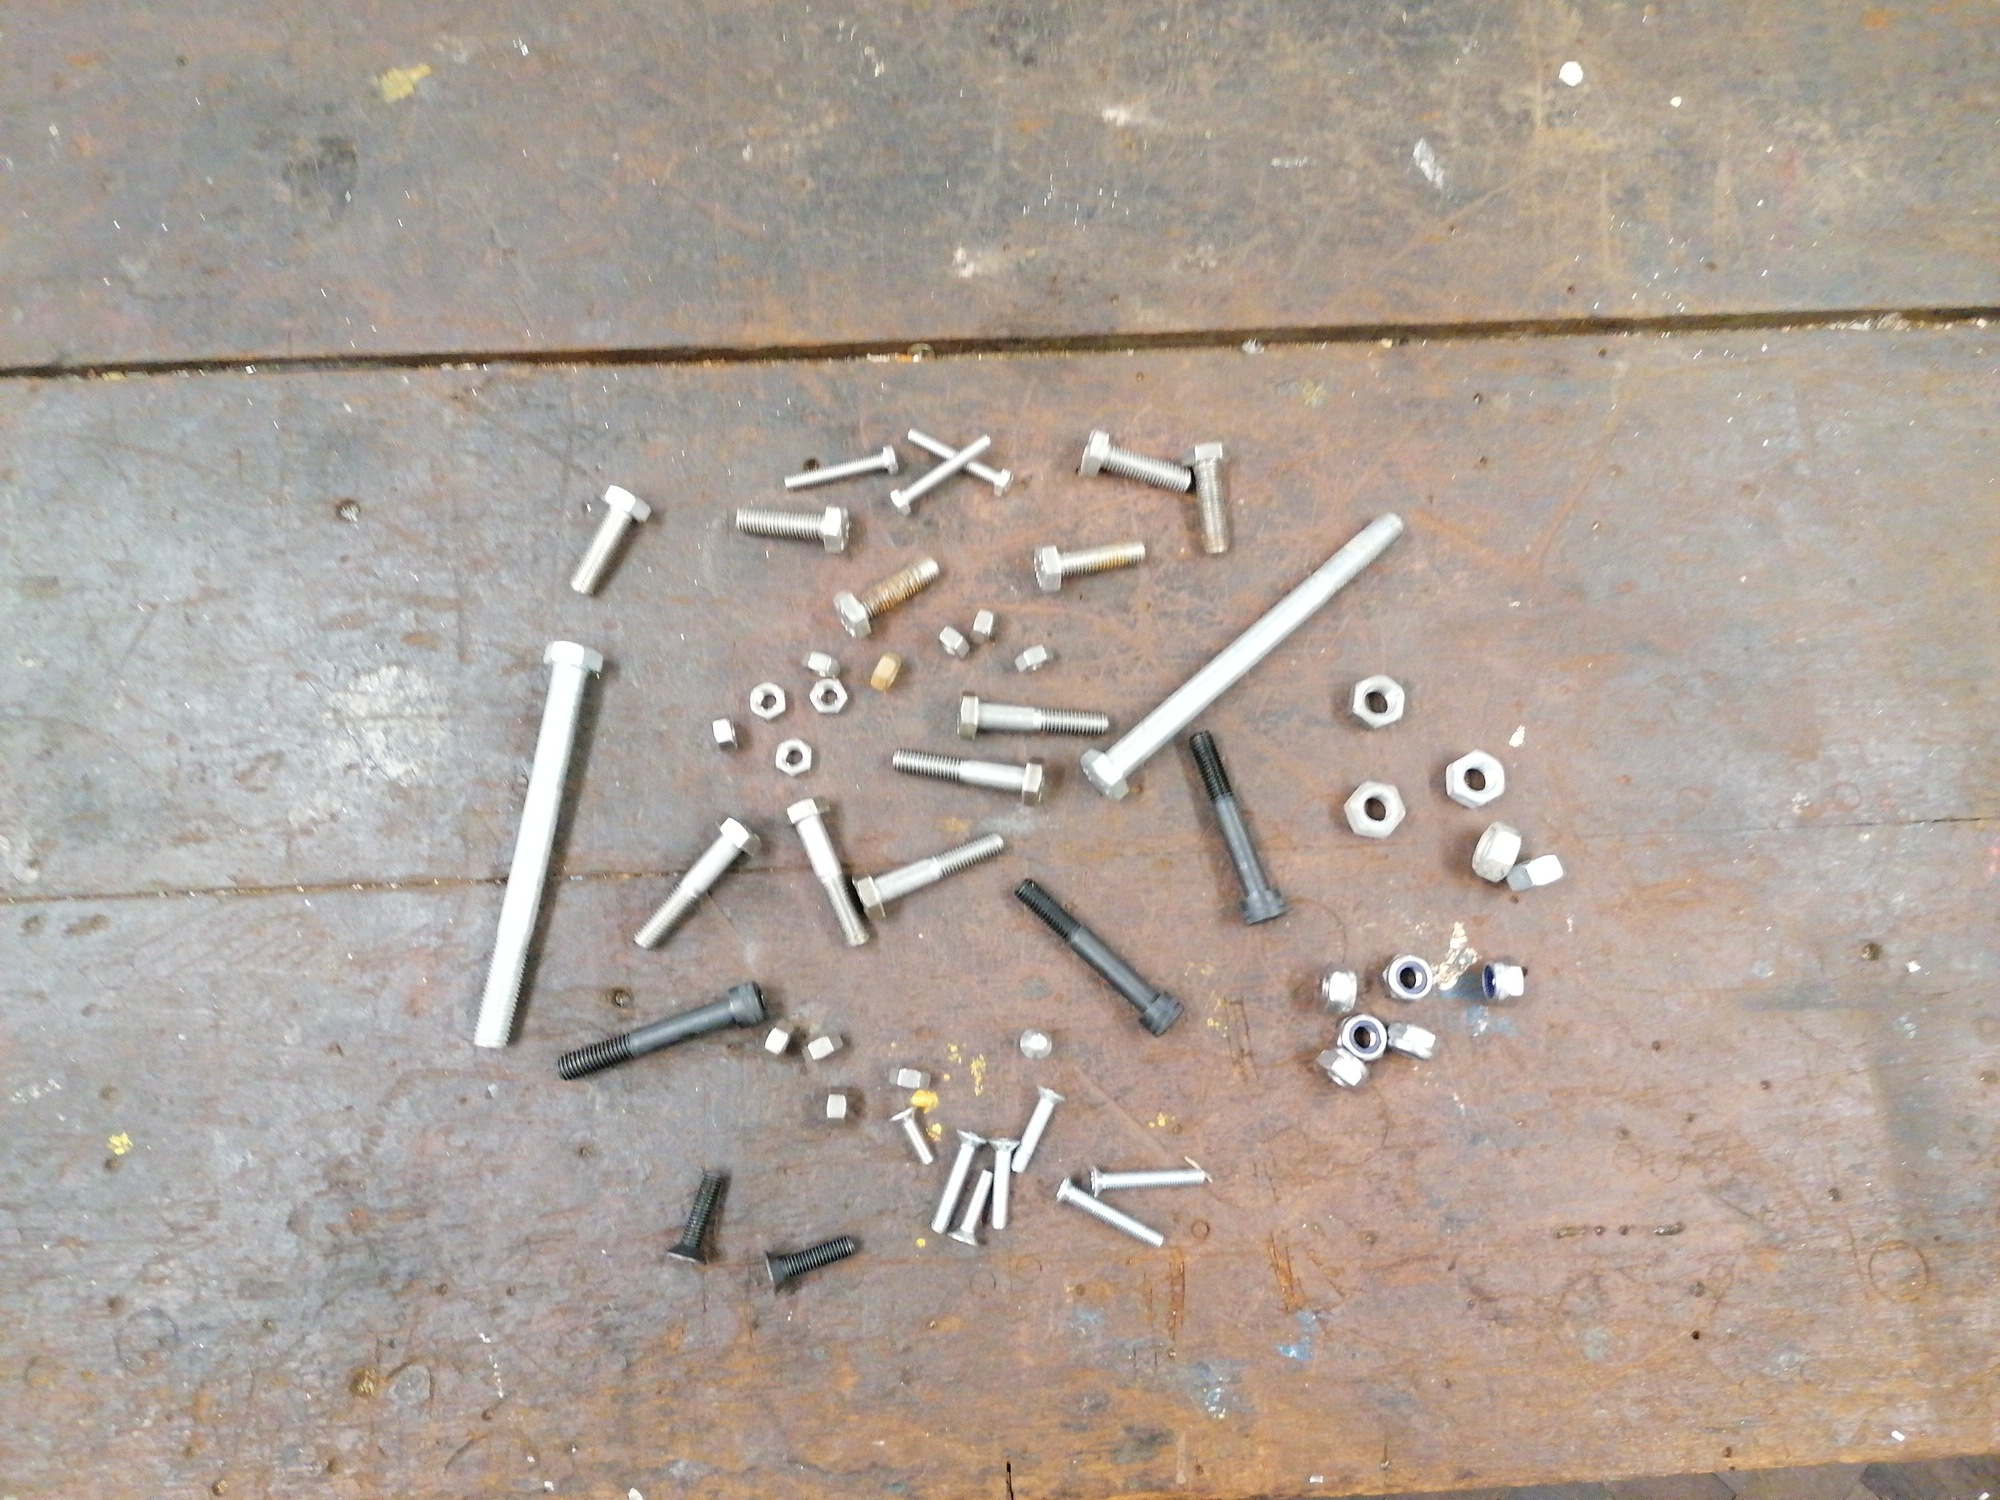bolt: (1079, 511, 1405, 800), (471, 640, 605, 1049), (1014, 878, 1184, 1037), (554, 980, 770, 1081), (1187, 730, 1288, 926), (850, 832, 1005, 920), (784, 796, 869, 947), (567, 482, 652, 596), (890, 747, 1046, 808), (831, 555, 942, 638), (888, 433, 992, 515), (1055, 1175, 1164, 1249), (956, 689, 1109, 741), (1079, 427, 1192, 495), (906, 427, 1014, 496), (1031, 539, 1146, 592), (929, 1128, 987, 1234), (1180, 441, 1231, 556), (735, 503, 850, 555), (762, 1234, 857, 1297), (665, 1171, 724, 1265), (783, 444, 901, 488), (1009, 1086, 1066, 1172), (1088, 1164, 1205, 1197), (946, 1168, 994, 1246), (986, 1138, 1020, 1231), (888, 1106, 932, 1164), (1019, 1024, 1055, 1059)
nut: (1342, 780, 1406, 840), (1446, 748, 1506, 808), (1346, 673, 1405, 730), (1469, 821, 1521, 882), (1378, 952, 1435, 1004), (1334, 1013, 1387, 1062), (1313, 1046, 1372, 1090), (1506, 852, 1567, 892), (1387, 1021, 1439, 1060), (1480, 958, 1524, 1004), (1320, 964, 1357, 1015), (773, 736, 814, 777), (748, 681, 787, 722), (808, 678, 850, 715), (869, 651, 902, 692), (1014, 643, 1057, 674), (798, 649, 843, 678), (764, 1016, 795, 1056), (935, 626, 970, 660), (824, 1086, 850, 1130), (806, 1030, 846, 1060), (969, 607, 998, 644), (710, 715, 739, 755), (888, 1065, 932, 1090)
